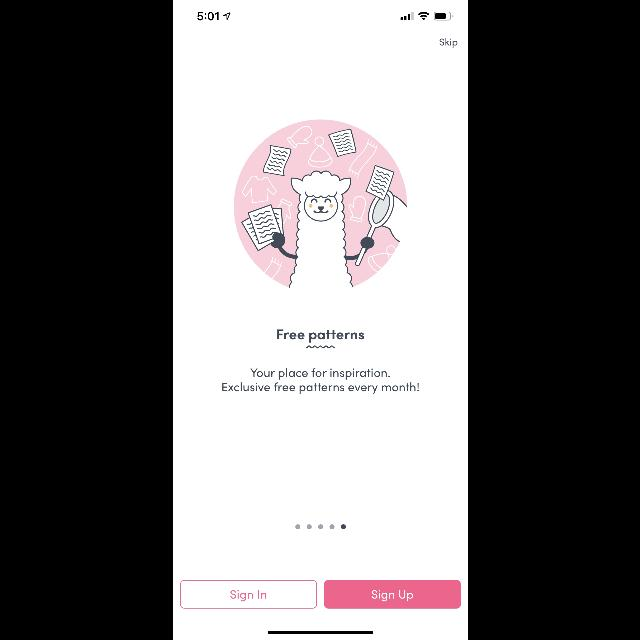image: (233, 120, 407, 292)
pageindicator: (295, 524, 345, 530)
text: (222, 368, 418, 394), (276, 330, 364, 342), (439, 38, 457, 48)
textbutton: (324, 580, 461, 608), (180, 580, 316, 608)
uppertaskbar: (196, 12, 452, 20)
